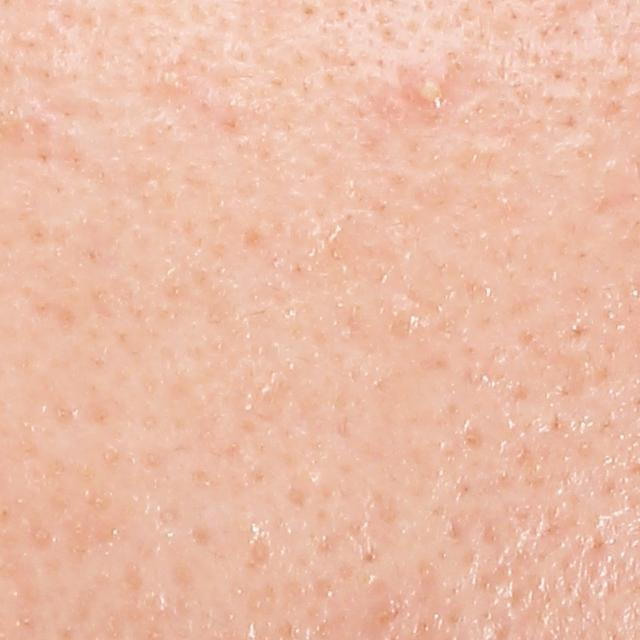comedo: (157, 64, 190, 95)
pustule: (409, 72, 447, 108)
